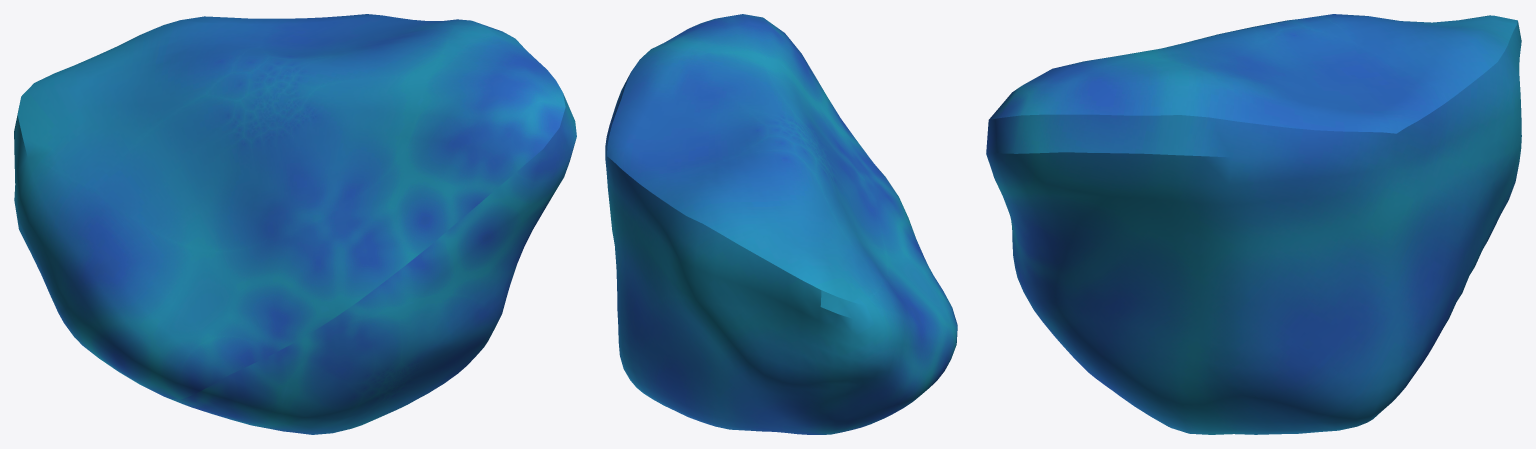
The model's file is Ice_Stone2.fbx.
The picture shows the model from 3 angles, left to right: view 1: azimuth 30°, elevation 25°; view 2: azimuth 150°, elevation 25°; view 3: azimuth 270°, elevation 25°; orthographic projection. The views are drawn at different scales.
Visible parts, largest first — view 1: rock.006; view 2: rock.006; view 3: rock.006.
Part boxes in pixels (bbox=[...]): rock.006: bbox=[14, 14, 576, 434]; rock.006: bbox=[605, 14, 957, 434]; rock.006: bbox=[986, 14, 1521, 434].
Size of the model in its own units: 135 by 116 by 142.
